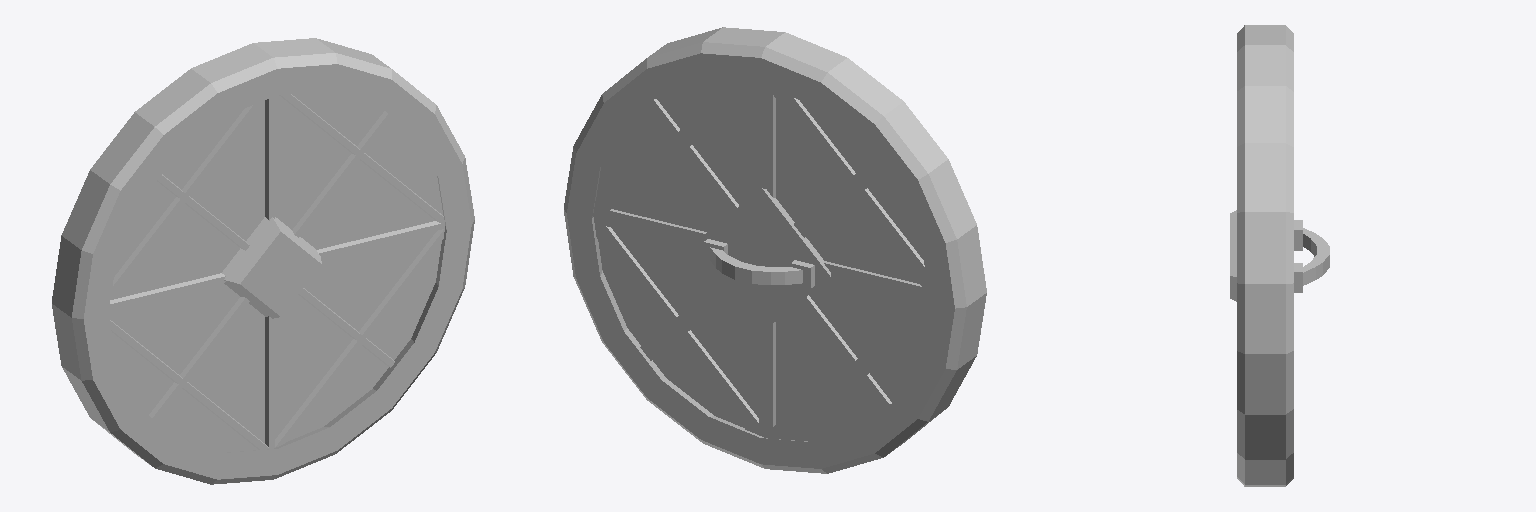
File: metalshield_01.obj
3 views of the same model, side by side, from view 1: azimuth 30°, elevation 25°; view 2: azimuth 150°, elevation 25°; view 3: azimuth 270°, elevation 25° (orthographic).
Visible parts, largest first — view 1: shieldMesh; view 2: shieldMesh; view 3: shieldMesh.
Boxes of the visible parts, <box> form: shieldMesh: <box>52,38,474,484</box>; shieldMesh: <box>564,27,986,473</box>; shieldMesh: <box>1230,25,1329,486</box>.
Size of the model in its own units: 3.19 by 3.19 by 0.6814.